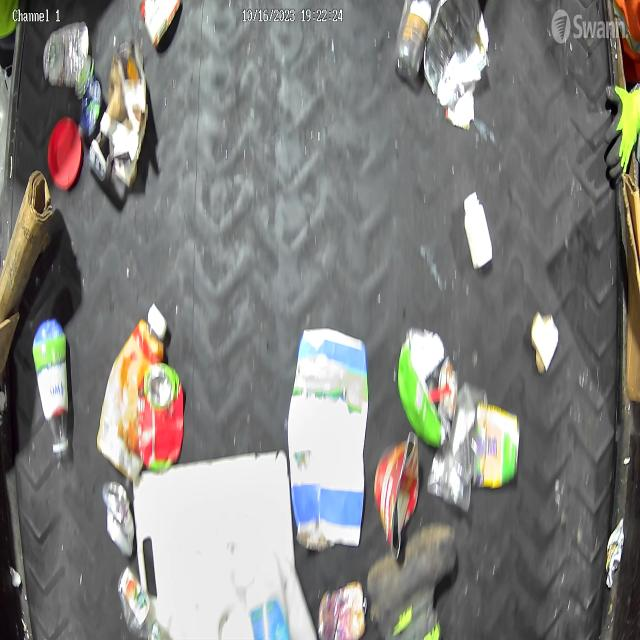can: (373, 430, 421, 560), (137, 361, 186, 473), (472, 399, 520, 490), (102, 480, 135, 559)
